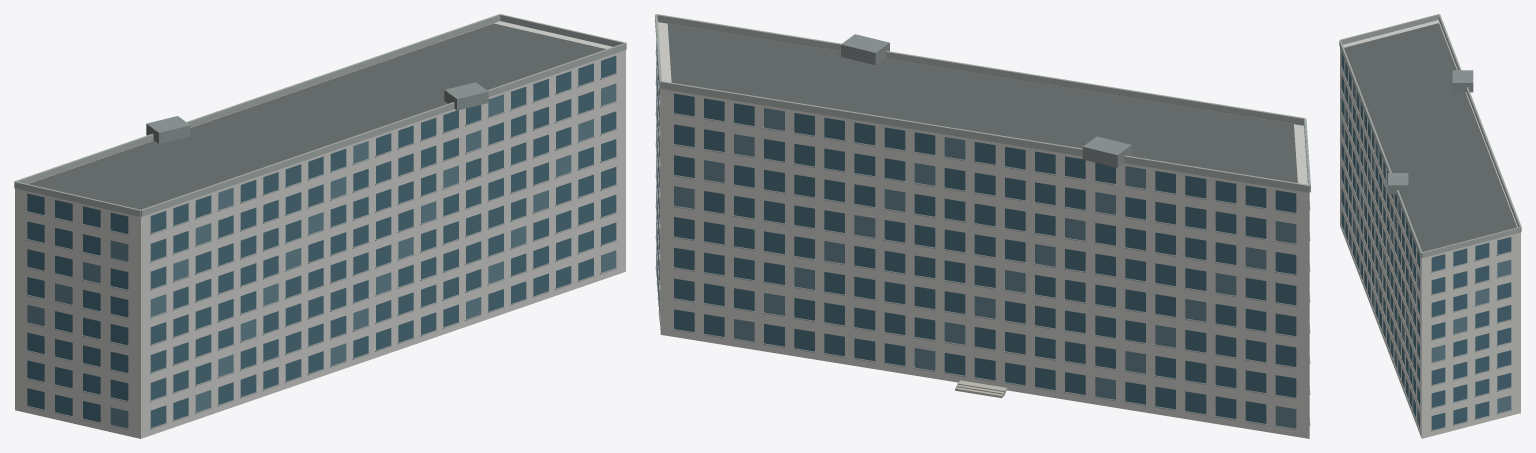
Rendered from 东侧办公园区-037.glb.
The picture shows the model from 3 angles, left to right: view 1: azimuth 30°, elevation 25°; view 2: azimuth 150°, elevation 25°; view 3: azimuth 270°, elevation 25°; orthographic projection. The views are drawn at different scales.
Visible parts, largest first — view 1: 东侧办公园区-037; view 2: 东侧办公园区-037; view 3: 东侧办公园区-037.
Part boxes in pixels (bbox=[...]): 东侧办公园区-037: bbox=[14, 14, 626, 438]; 东侧办公园区-037: bbox=[655, 14, 1310, 438]; 东侧办公园区-037: bbox=[1339, 14, 1521, 438].
Bounding box in the file's own units: 76.45 × 28.42 × 24.65.
